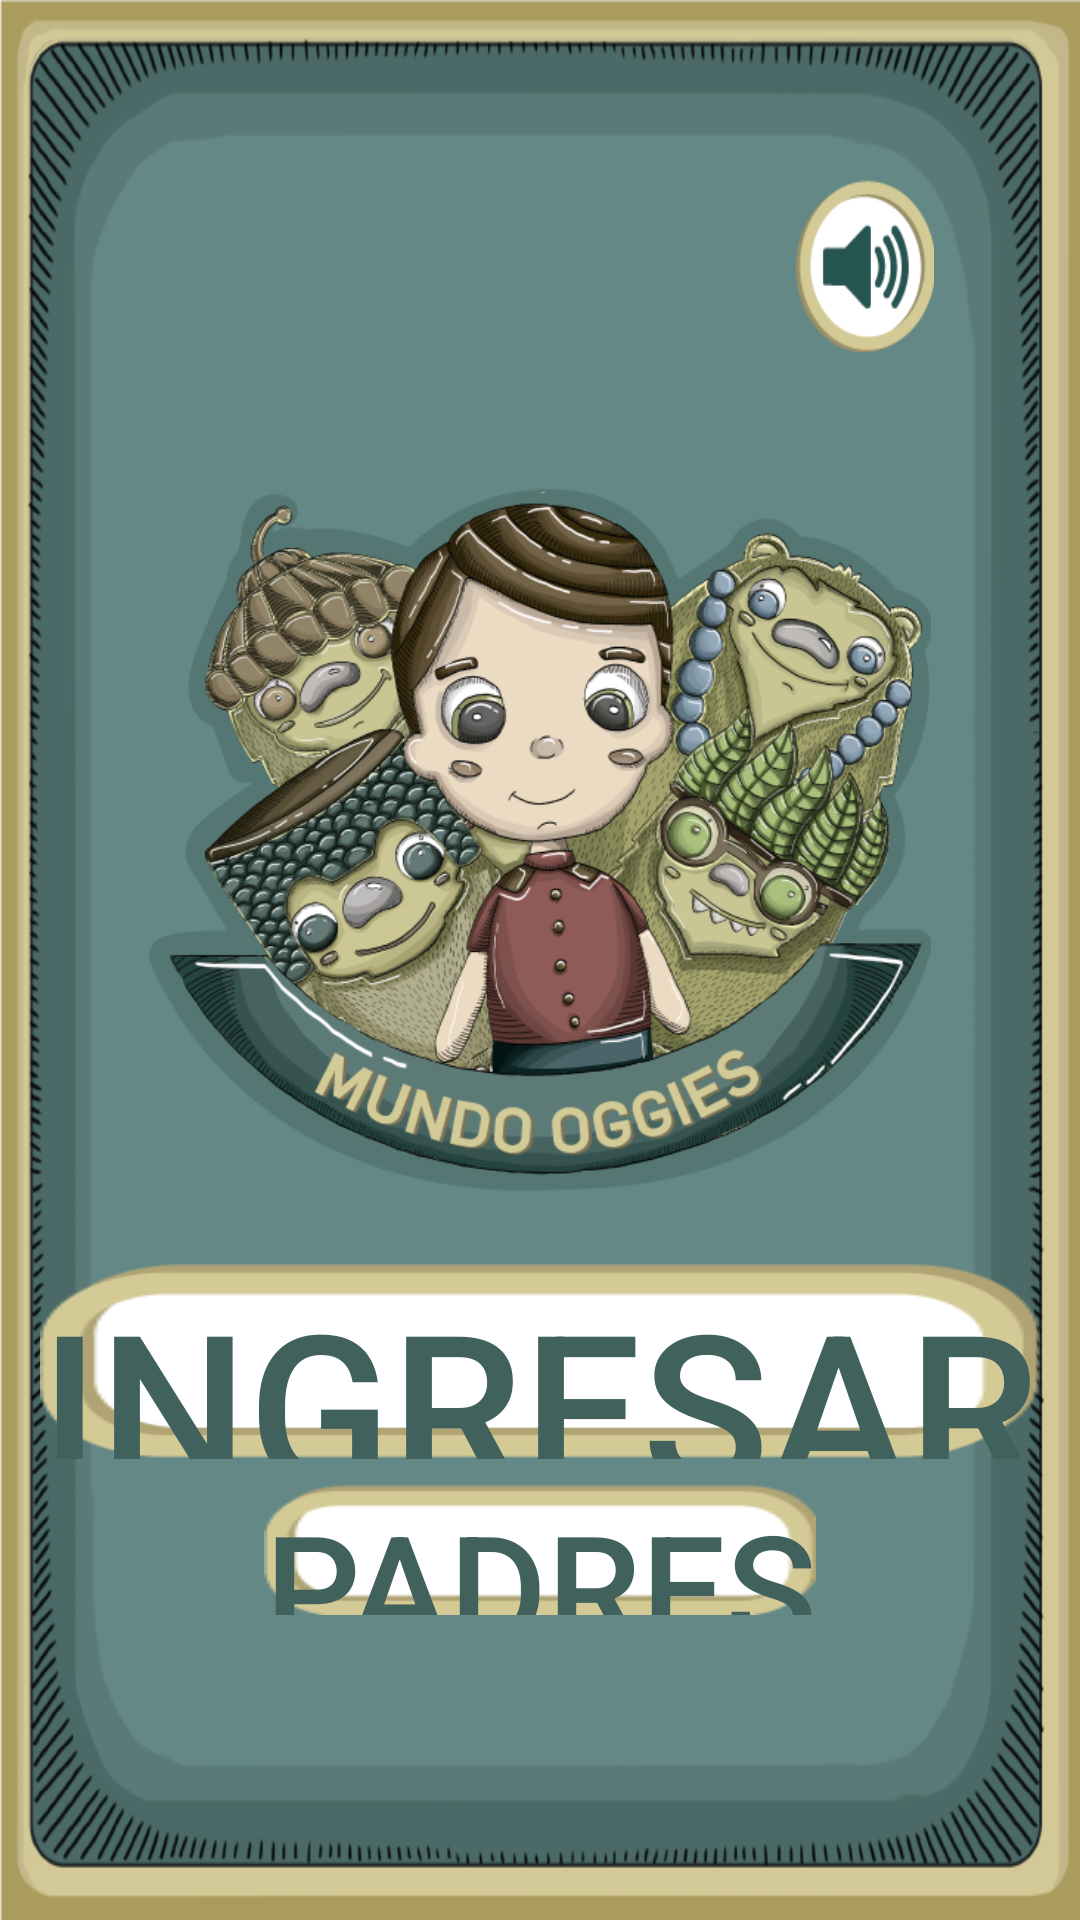

Named icons in this screenshot (1080 × 1920) and their centers, point (x, y):
music on: point (865, 266)
